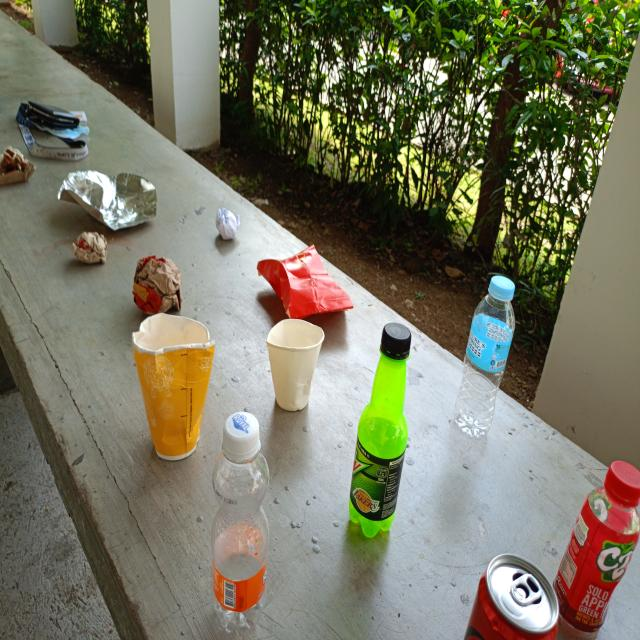Anorganik: (553, 459, 640, 640), (346, 321, 412, 539), (213, 410, 272, 640), (454, 274, 517, 440), (462, 552, 562, 640)
Organik: (133, 312, 216, 463), (258, 246, 354, 322), (58, 171, 159, 233), (266, 316, 324, 416), (132, 253, 182, 319), (0, 141, 37, 190), (71, 229, 109, 267), (214, 204, 244, 246)
